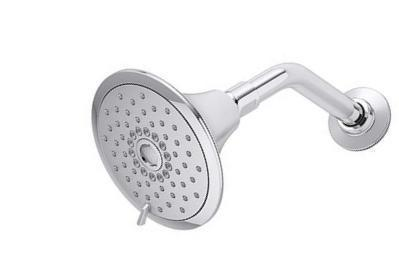Ducha: (57, 30, 398, 240)
